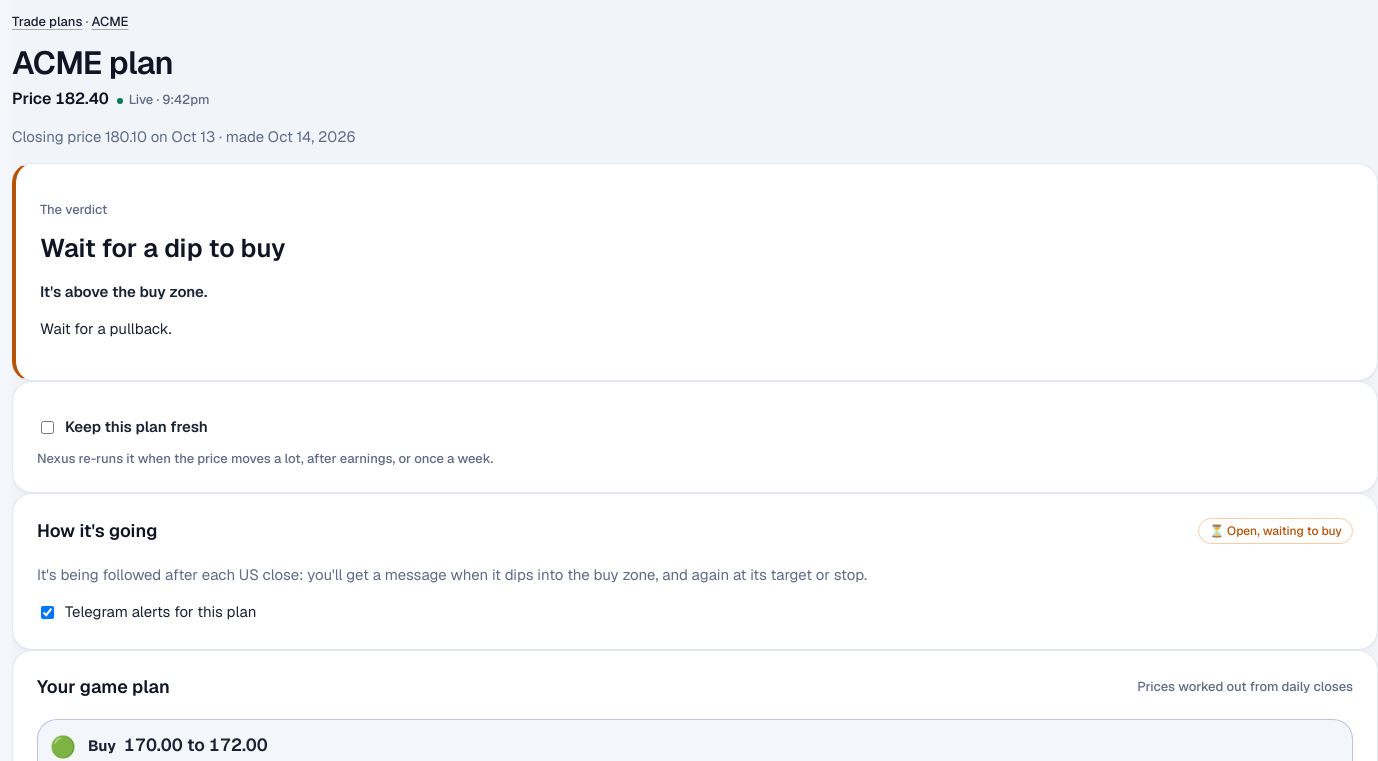
Keep this plan fresh › goes back and says why when the server refuses
Click the checkbox labelled "Keep this plan fresh": (48, 428) [41,421,54,434]
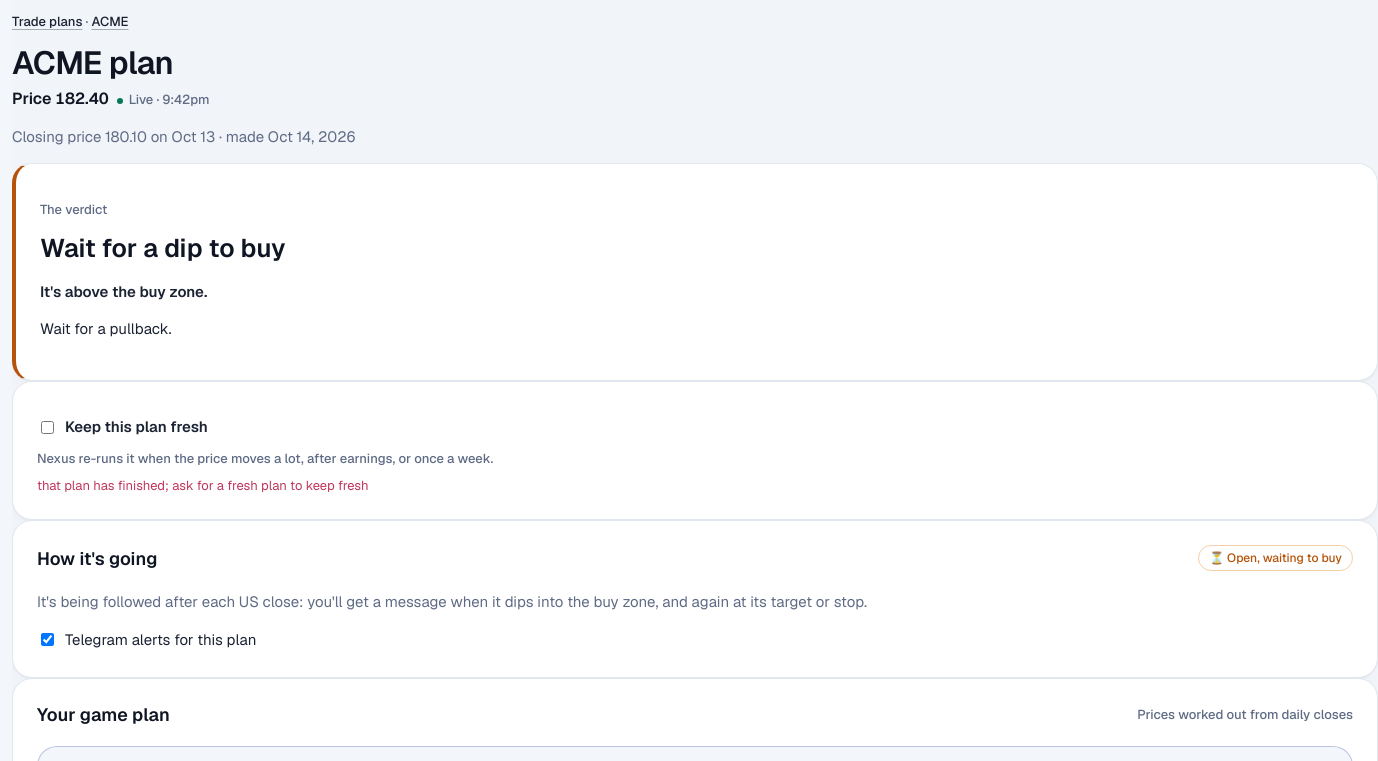
Expected: the message shows "that plan has finished", [37,477,368,494]
